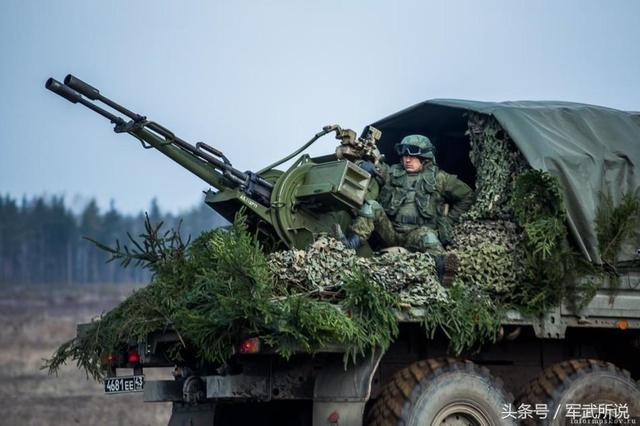MIL_SPG: (46, 75, 371, 248)
